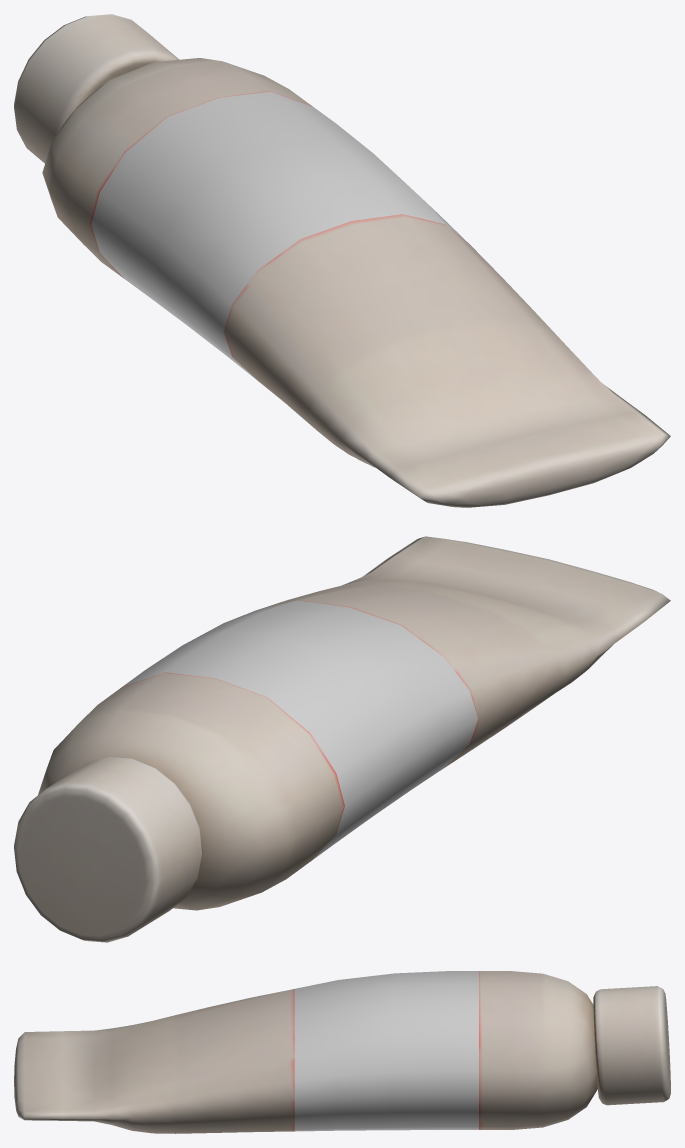
Rendered from SM_PaintTube.fbx.
The picture shows the model from 3 angles, top to bottom: view 1: azimuth 30°, elevation 25°; view 2: azimuth 150°, elevation 25°; view 3: azimuth 270°, elevation 25°; orthographic projection. The views are drawn at different scales.
Parts seen in each view (by area): view 1: SM_PaintTube_LOD0; view 2: SM_PaintTube_LOD0; view 3: SM_PaintTube_LOD0.
Part boxes in pixels (<box>): SM_PaintTube_LOD0: <box>14,14,670,507</box>; SM_PaintTube_LOD0: <box>14,536,670,942</box>; SM_PaintTube_LOD0: <box>14,971,670,1133</box>.
Bounding box in the file's own units: 5.6 × 17.86 × 4.02.
Materials: 2 (1 with a texture image).
